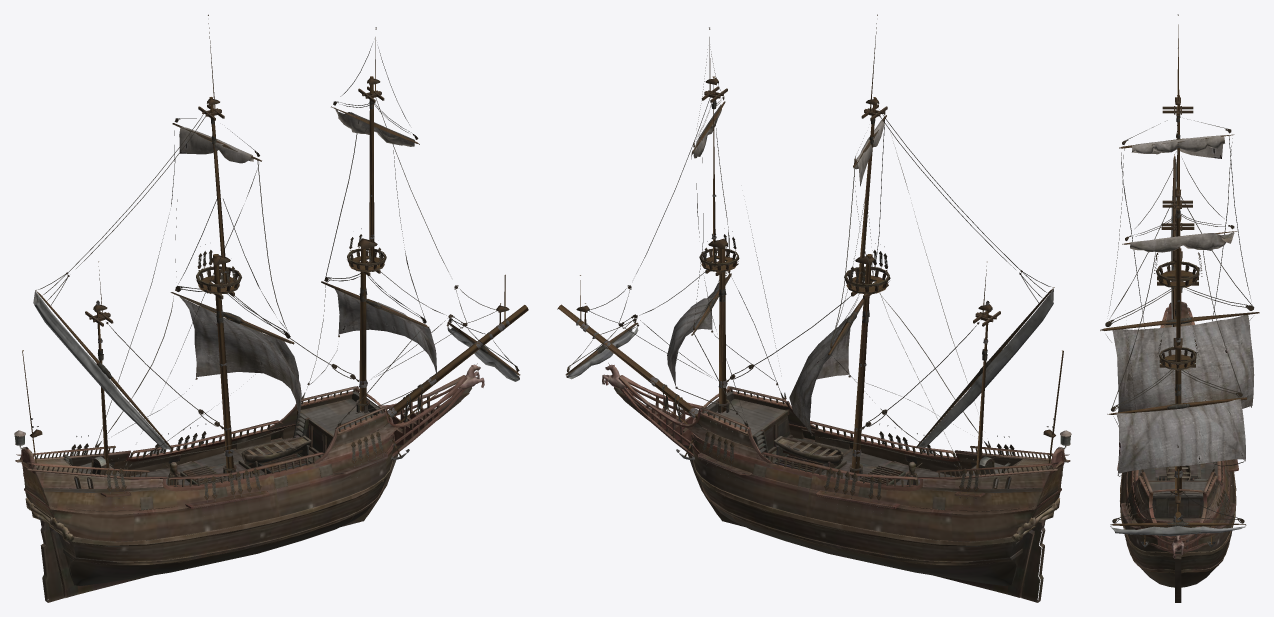
File: dutch_ship_medium.glb
The picture shows the model from 3 angles, left to right: view 1: azimuth 30°, elevation 25°; view 2: azimuth 150°, elevation 25°; view 3: azimuth 270°, elevation 25°; orthographic projection. The views are drawn at different scales.
Parts seen in each view (by area): view 1: dutch_ship_medium_rigging; view 2: dutch_ship_medium_rigging; view 3: dutch_ship_medium_rigging.
Part boxes in pixels (x1,y1,x2,y2): dutch_ship_medium_rigging: [14, 14, 528, 602]; dutch_ship_medium_rigging: [557, 14, 1071, 602]; dutch_ship_medium_rigging: [1100, 14, 1259, 602].
Bounding box in the file's own units: 24.08 × 24.6 × 6.81.
Materials: 3 (3 with a texture image).
